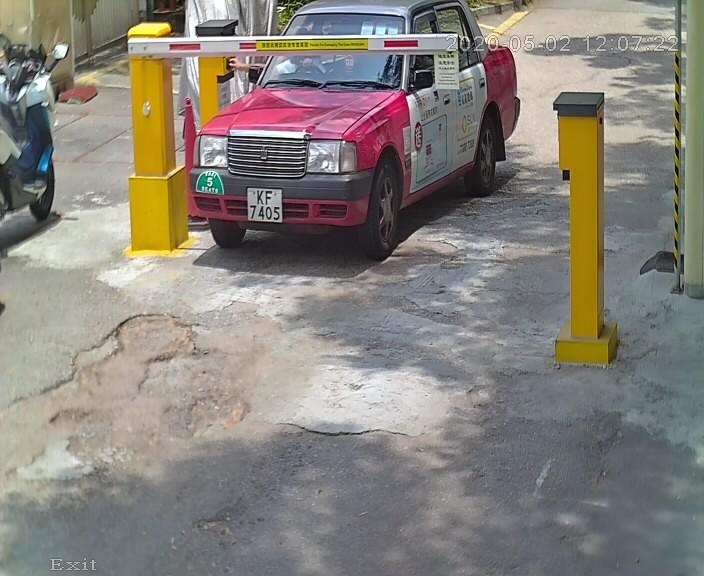Car: (176, 1, 534, 267)
License Plate: (240, 179, 291, 229)
